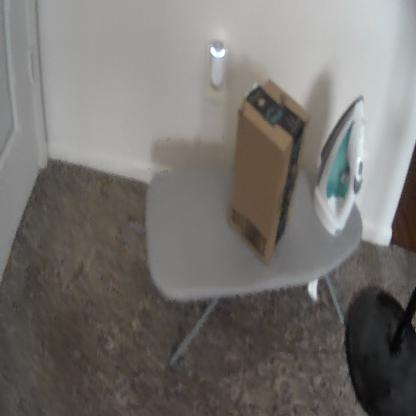package: (222, 68, 315, 275)
